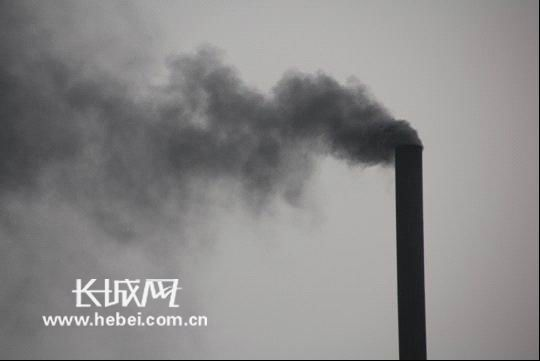dust: (273, 70, 429, 156)
